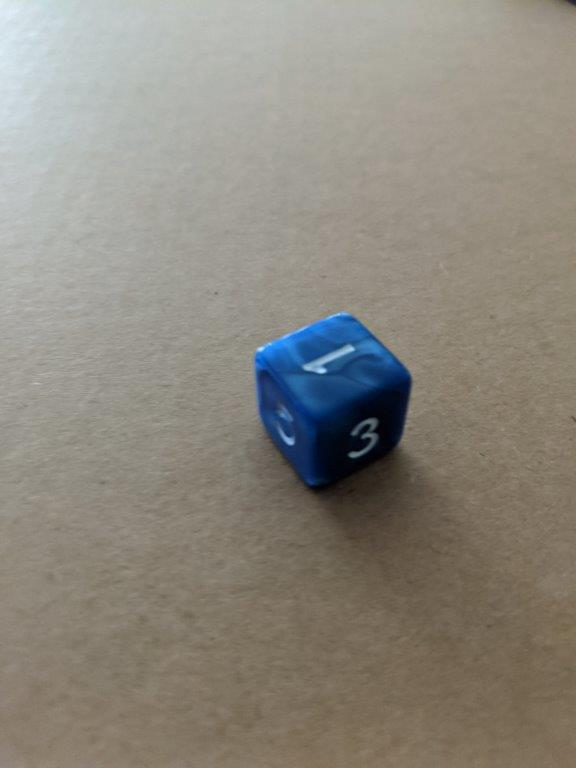d6-1: (252, 308, 413, 491)
